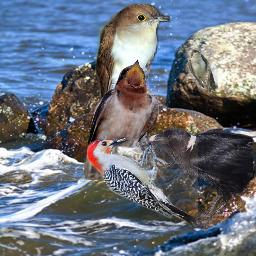Crow: (145, 127, 253, 233)
Cuckoo: (84, 2, 170, 180)
Swallow: (88, 59, 159, 153), (188, 48, 218, 93)
Woodpecker: (87, 137, 198, 227)
